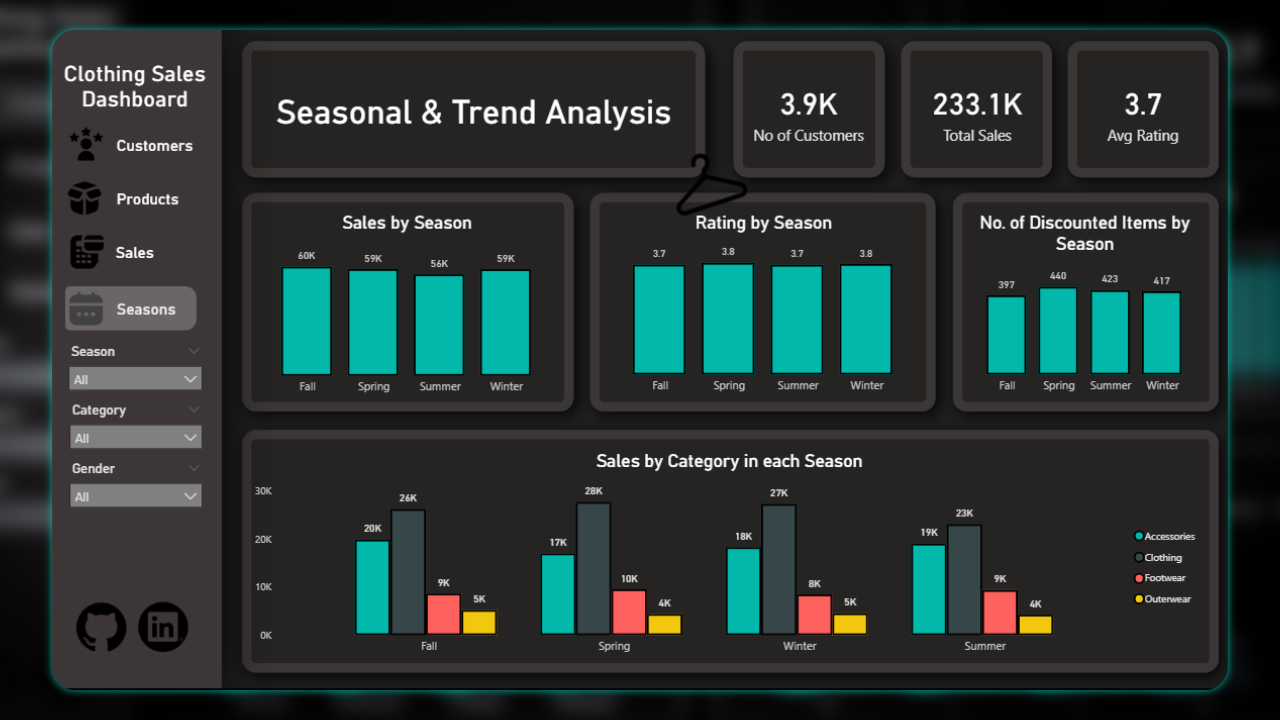

The page's visual inventory and layout, read from the dashboard file:
{"tool":"powerbi","page":{"name":"Seasons","canvas":[1280,720],"ordinal":3},"visuals":[{"type":"shape","box":[217.2,27.3,483.4,134.2],"z":0},{"type":"card","fields":{"Values":["shopping_behavior_updated.No of Customers"]},"box":[749.7,27.1,141.9,134.2],"z":1000},{"type":"card","fields":{"Values":["shopping_behavior_updated.Total Sales"]},"box":[931.6,27.1,141.9,134.2],"z":2000},{"type":"card","fields":{"Values":["shopping_behavior_updated.Avg Rating"]},"box":[1111.1,26.8,142,134.2],"z":3000},{"type":"shape","box":[0,0,185.5,134.2],"z":4000},{"type":"shape","box":[69.7,108.1,116.1,46.5],"z":5000},{"type":"image","box":[11.6,106.8,56.8,46.5],"z":6000},{"type":"shape","box":[69.7,166.2,116.1,46.5],"z":7000},{"type":"image","box":[15.5,164.9,46.5,47.7],"z":8000},{"type":"shape","box":[68.4,224.2,117.4,46.5],"z":9000},{"type":"image","box":[12.9,223.7,56.8,46.5],"z":10000},{"type":"shape","box":[69.8,284.9,116.1,46.5],"z":11000},{"type":"image","box":[11.8,284.9,56.8,46.5],"z":12000},{"type":"slicer","fields":{"Values":["shopping_behavior_updated.Season"]},"box":[10.9,341.5,164.8,63.3],"z":13000},{"type":"slicer","fields":{"Values":["shopping_behavior_updated.Category"]},"box":[12,404.8,163.7,63.3],"z":14000},{"type":"slicer","fields":{"Values":["shopping_behavior_updated.Gender"]},"box":[12,468,163.7,63.3],"z":15000},{"type":"image","box":[17.6,619.8,77.5,64.4],"z":16000},{"type":"image","box":[86.2,619.8,73.1,64.4],"z":17000},{"type":"actionButton","box":[12.9,162.6,147.1,51.6],"z":18000},{"type":"actionButton","box":[10.9,221.5,147.3,51.3],"z":19000},{"type":"actionButton","box":[15.5,107.1,147.1,51.6],"z":20000},{"type":"shape","box":[16.9,283.9,141.9,47.7],"z":21000},{"type":"clusteredColumnChart","title":"Sales by Season","fields":{"Y":["Sum(shopping_behavior_updated.Purchase Amount (USD))"],"Category":["shopping_behavior_updated.Season"]},"box":[216.8,203.9,339.4,206.5],"z":22000},{"type":"clusteredColumnChart","title":"Rating by Season","fields":{"Category":["shopping_behavior_updated.Season"],"Y":["Avg(shopping_behavior_updated.Review Rating)"]},"box":[595.8,204.1,352.5,205.1],"z":23000},{"type":"clusteredColumnChart","title":"No. of Discounted Items by Season","fields":{"Category":["shopping_behavior_updated.Season"],"Y":["shopping_behavior_updated.Total Discount Applied"]},"box":[985.4,204.1,267.3,205.1],"z":24000},{"type":"lineClusteredColumnComboChart","title":"Sales by Category in each Season","fields":{"Category":["shopping_behavior_updated.Season"],"Series":["shopping_behavior_updated.Category"],"Y":["shopping_behavior_updated.Total Sales"]},"box":[217.2,461.6,1035.6,229.2],"z":25000}]}

Visuals, with their boxes on the page's 1280x720 design canvas (x1, y1, x2, y2). These are canvas units, not pixel positions in the 1280x720 screenshot, which may show the page scaled, cropped or inside an application window:
shape: {"left": 217, "top": 27, "right": 701, "bottom": 162}
card - shopping_behavior_updated.No of Customers: {"left": 750, "top": 27, "right": 892, "bottom": 161}
card - shopping_behavior_updated.Total Sales: {"left": 932, "top": 27, "right": 1074, "bottom": 161}
card - shopping_behavior_updated.Avg Rating: {"left": 1111, "top": 27, "right": 1253, "bottom": 161}
shape: {"left": 0, "top": 0, "right": 186, "bottom": 134}
shape: {"left": 70, "top": 108, "right": 186, "bottom": 155}
image: {"left": 12, "top": 107, "right": 68, "bottom": 153}
shape: {"left": 70, "top": 166, "right": 186, "bottom": 213}
image: {"left": 16, "top": 165, "right": 62, "bottom": 213}
shape: {"left": 68, "top": 224, "right": 186, "bottom": 271}
image: {"left": 13, "top": 224, "right": 70, "bottom": 270}
shape: {"left": 70, "top": 285, "right": 186, "bottom": 331}
image: {"left": 12, "top": 285, "right": 69, "bottom": 331}
slicer - shopping_behavior_updated.Season: {"left": 11, "top": 342, "right": 176, "bottom": 405}
slicer - shopping_behavior_updated.Category: {"left": 12, "top": 405, "right": 176, "bottom": 468}
slicer - shopping_behavior_updated.Gender: {"left": 12, "top": 468, "right": 176, "bottom": 531}
image: {"left": 18, "top": 620, "right": 95, "bottom": 684}
image: {"left": 86, "top": 620, "right": 159, "bottom": 684}
actionButton: {"left": 13, "top": 163, "right": 160, "bottom": 214}
actionButton: {"left": 11, "top": 222, "right": 158, "bottom": 273}
actionButton: {"left": 16, "top": 107, "right": 163, "bottom": 159}
shape: {"left": 17, "top": 284, "right": 159, "bottom": 332}
"Sales by Season" clusteredColumnChart: {"left": 217, "top": 204, "right": 556, "bottom": 410}
"Rating by Season" clusteredColumnChart: {"left": 596, "top": 204, "right": 948, "bottom": 409}
"No. of Discounted Items by Season" clusteredColumnChart: {"left": 985, "top": 204, "right": 1253, "bottom": 409}
"Sales by Category in each Season" lineClusteredColumnComboChart: {"left": 217, "top": 462, "right": 1253, "bottom": 691}
